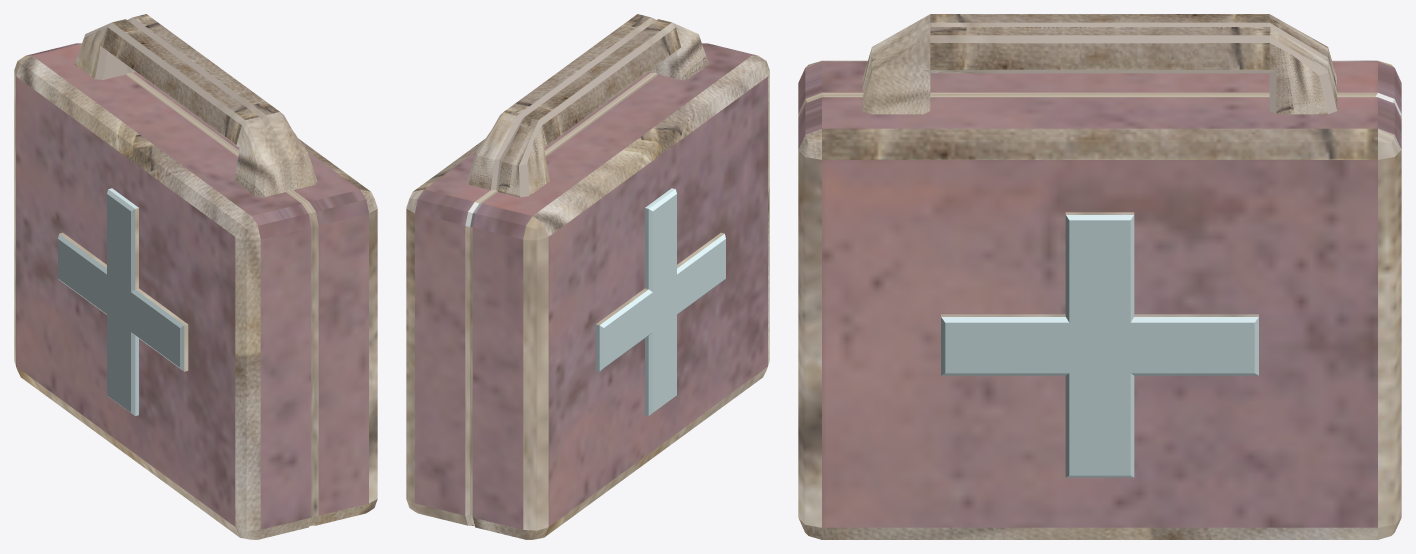
File: medkit.glb
3 views of the same model, side by side, from view 1: azimuth 30°, elevation 25°; view 2: azimuth 150°, elevation 25°; view 3: azimuth 270°, elevation 25° (orthographic). The views are drawn at different scales.
Parts seen in each view (by area): view 1: Cube.001; view 2: Cube.001; view 3: Cube.001.
Part boxes in pixels (box(x1,y1,x2,y2)): Cube.001: box(14, 14, 377, 539); Cube.001: box(406, 14, 769, 539); Cube.001: box(798, 14, 1401, 539).
Size of the model in its own units: 0.4908 by 1.16 by 1.31.
3 materials, 2 textured.
